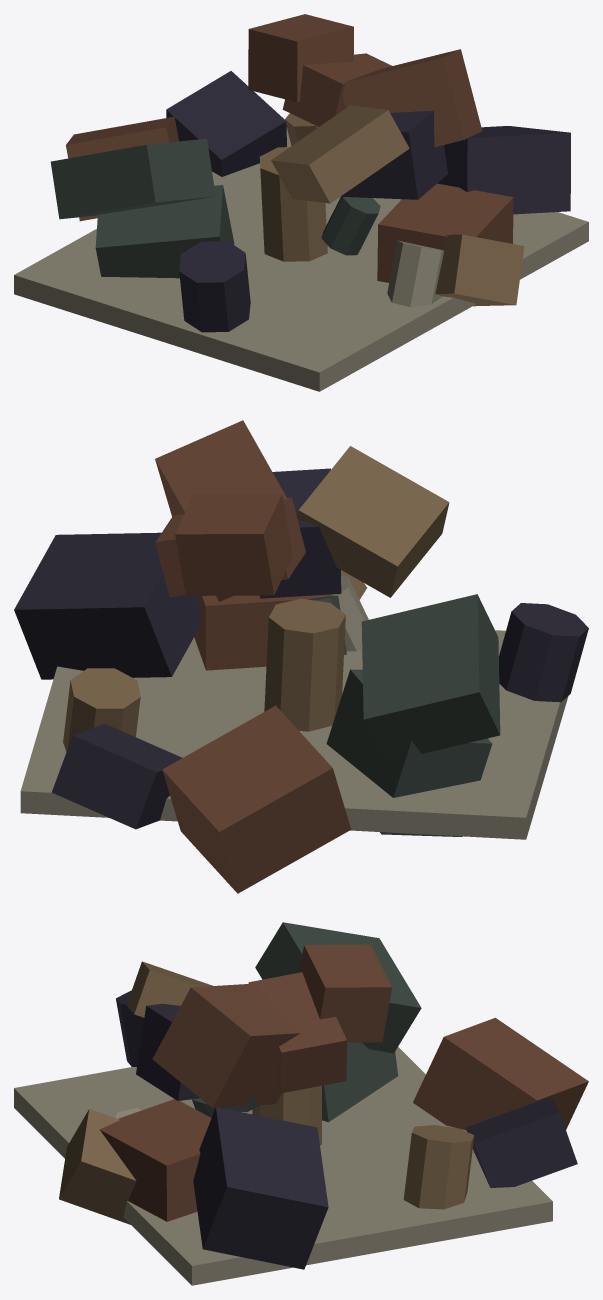
Rendered from trash-pile.glb.
3 views of the same model, one above another, from view 1: azimuth 30°, elevation 25°; view 2: azimuth 150°, elevation 25°; view 3: azimuth 270°, elevation 25° (orthographic). The views are drawn at different scales.
Parts seen in each view (by area): view 1: trash-pile; view 2: trash-pile; view 3: trash-pile.
Boxes of the visible parts, box(x1,y1,x2,y2) form: trash-pile: box(14, 14, 588, 391); trash-pile: box(14, 420, 588, 893); trash-pile: box(14, 922, 588, 1285).
Bounding box in the file's own units: 1.32 × 0.6494 × 1.32.
